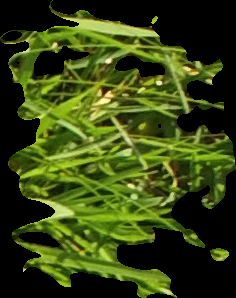grass: (1, 1, 235, 296)
